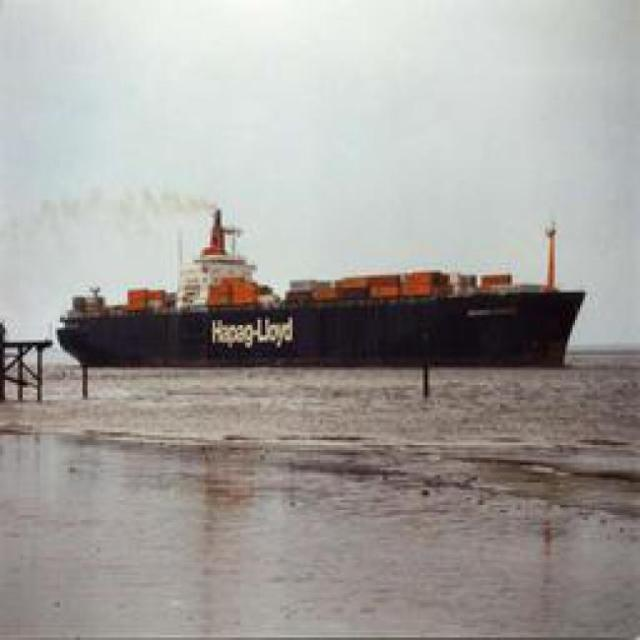boat: (40, 257, 618, 374)
